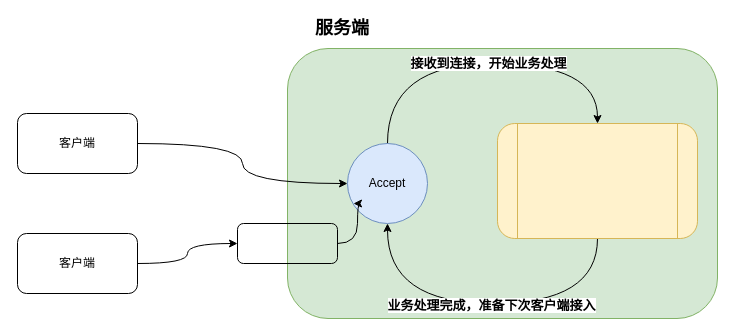
Some shapes in this 735 by 336 pixel diagram are drawn without their labels. The box of each missing label's shape, as (x1, y1, x2, y2) in pixels:
业务处理: (496, 122, 698, 238)
阻塞，等待上次连接完成: (236, 222, 338, 264)
